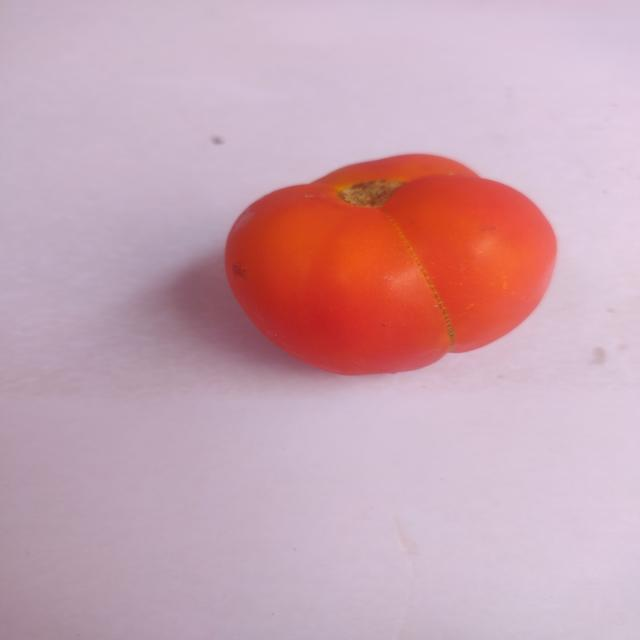Tomato: (206, 142, 576, 390)
